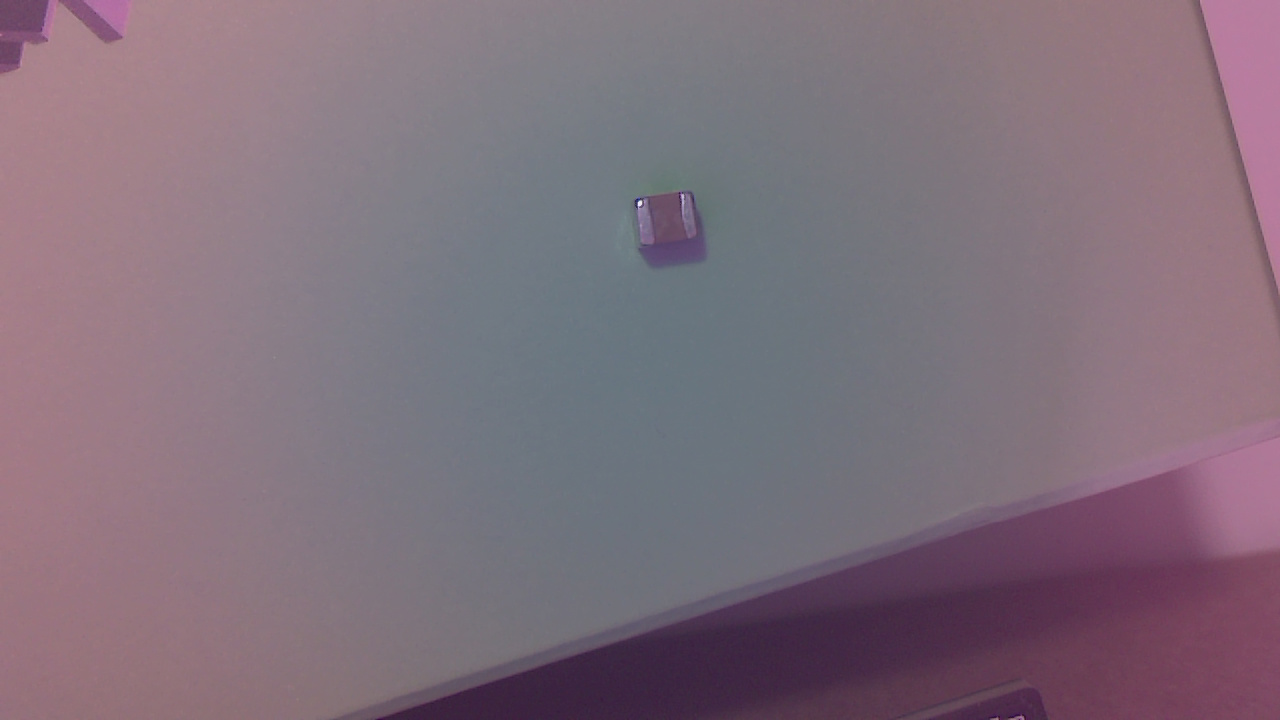Diode: (639, 193, 706, 255)
